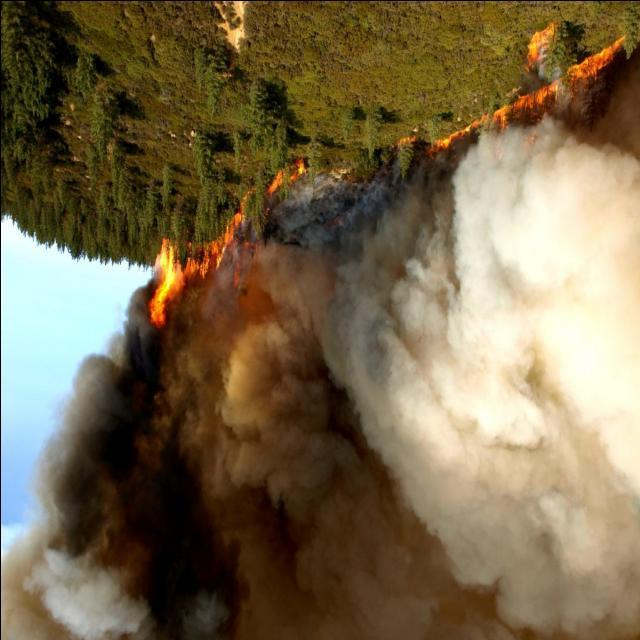Fire: (422, 19, 622, 160), (145, 186, 252, 326)
